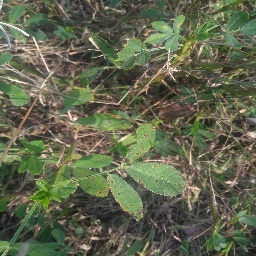GroundNut_Leaf: (109, 175, 145, 221), (148, 164, 189, 198), (126, 124, 157, 162), (117, 39, 150, 70), (225, 15, 256, 48), (74, 168, 105, 198), (75, 113, 124, 131), (62, 88, 96, 106), (1, 85, 30, 106), (75, 154, 113, 167), (196, 123, 215, 149), (23, 13, 47, 29), (49, 228, 67, 246), (150, 21, 173, 34), (28, 140, 46, 154)
